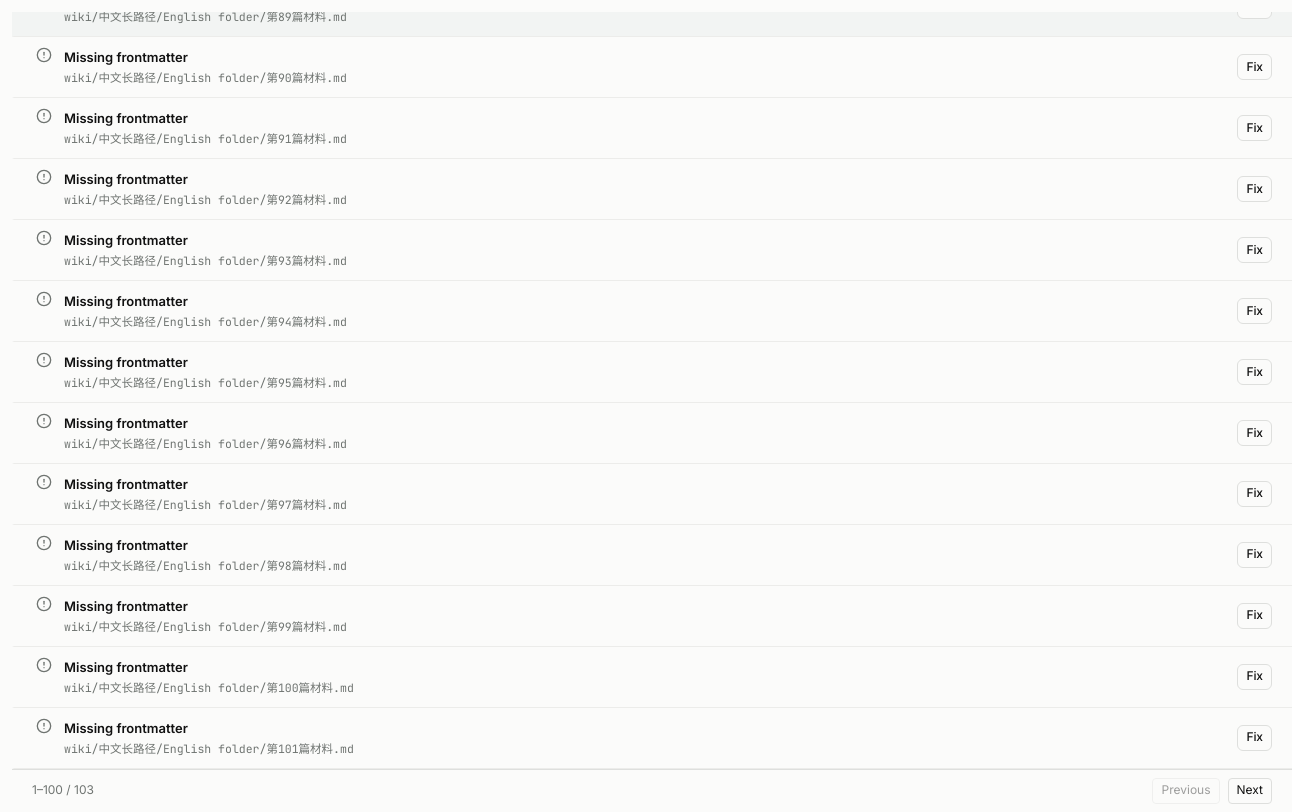
LintIssueList bounded rendering › keeps stable severity groups, full group totals and a partial last page
This screenshot has width=1292, height=812.
(page scrolled)
Click the button "Next" at (1250, 791), box [1228, 778, 1272, 804]
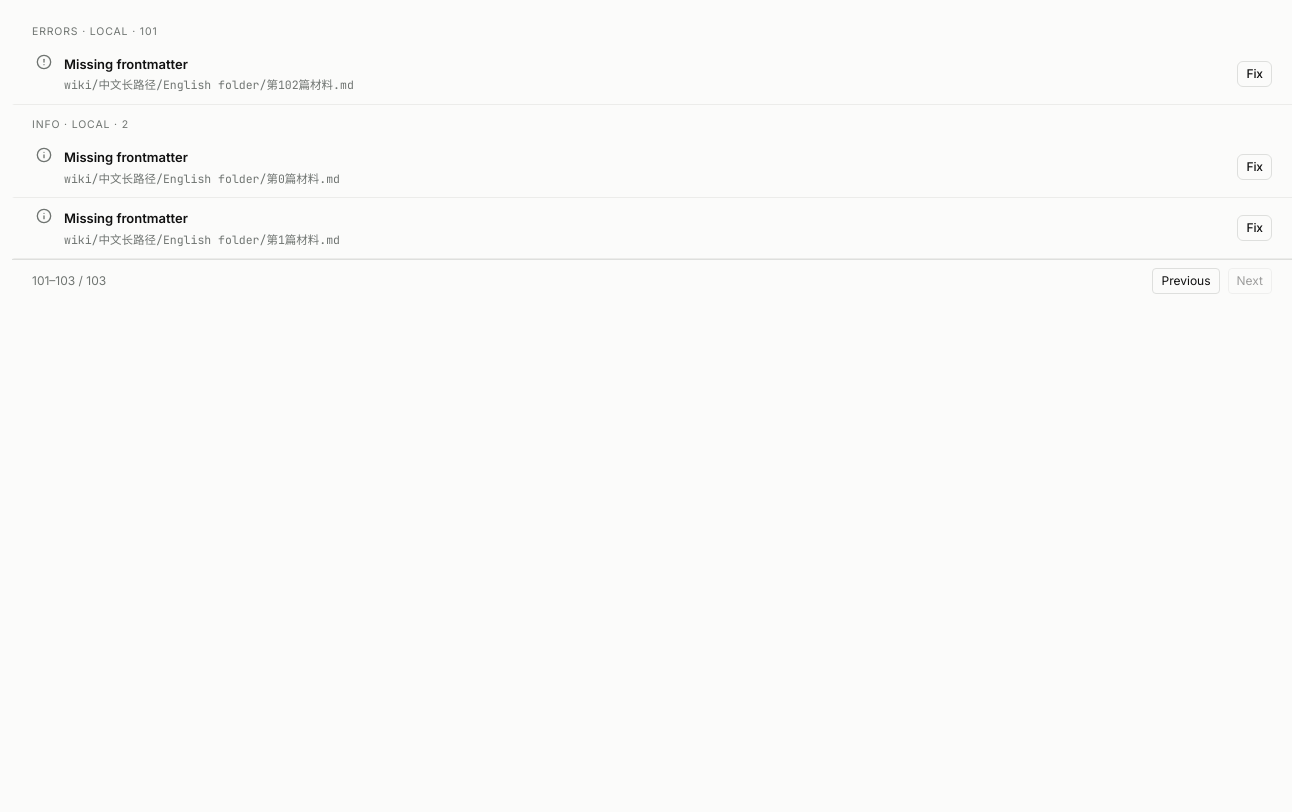
Check: the number of buttons with class "issue-card" is 3, box [14, 44, 1237, 104]; [14, 138, 1237, 198]; [14, 198, 1237, 258]
Check: the text with class "issue-card__sub" shows "第102篇材料", box [64, 77, 354, 92]
Check: the text "Errors · Local · 101" is shown, box [32, 25, 158, 38]
